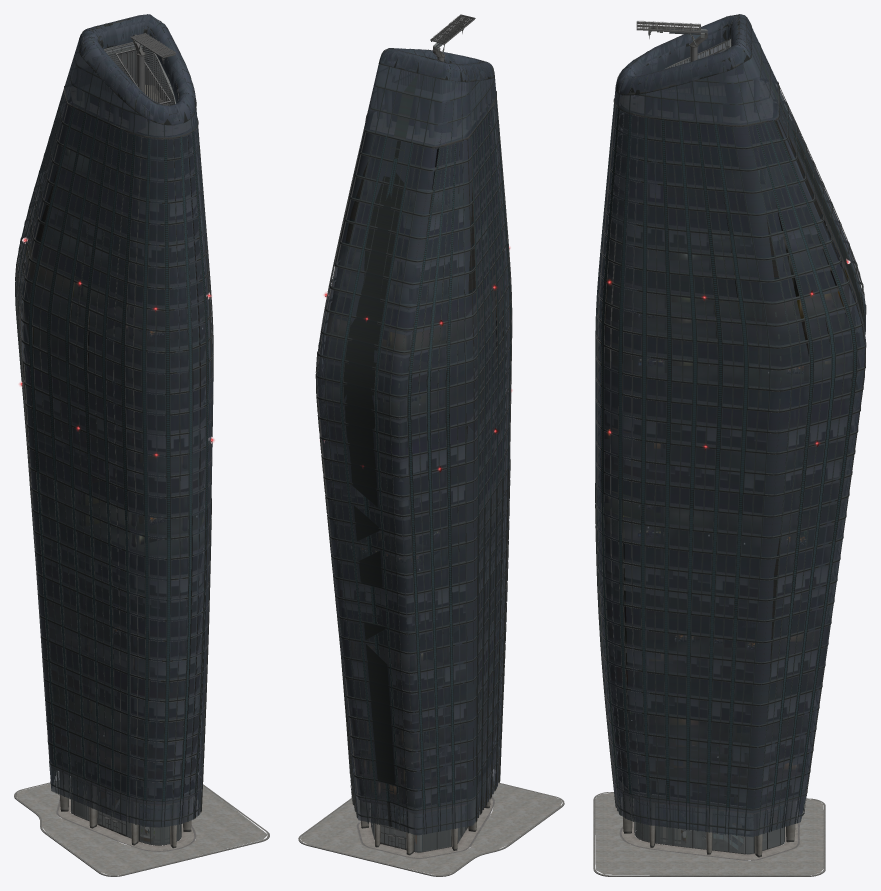
File: tower.glb
3 renders of one model, left to right at view 1: azimuth 30°, elevation 25°; view 2: azimuth 150°, elevation 25°; view 3: azimuth 270°, elevation 25°, orthographic. The views are drawn at different scales.
Parts seen in each view (by area): view 1: Glass_Generic_Glass_Generic_0, Building_Facade_Building_Facade_0, Interior_Top_Interior_Top_0, Glass_Generic_More_Opaque_Glass_Generic_More_Opaque_0, Sidewalk_02_Sidewalk_02_0, Interior_Blinds_Interior_Blinds_0, Top_Piece_Top_Piece_0, Sidewalk_01_Sidewalk_01_0, Concrete_Pillar_Concrete_Pillar_0, Glass_Lobby_Glass_Lobby_0, Building_Maintenance_Unit_Building_Maintenance_Unit_0, Lobby_Curtains_Lobby_Curtains_0; view 2: Building_Facade_Building_Facade_0, Glass_Generic_Glass_Generic_0, Interior_Top_Interior_Top_0, Glass_Generic_More_Opaque_Glass_Generic_More_Opaque_0, Sidewalk_02_Sidewalk_02_0, Interior_Blinds_Interior_Blinds_0, Top_Piece_Top_Piece_0, Sidewalk_01_Sidewalk_01_0, Concrete_Pillar_Concrete_Pillar_0, Glass_Lobby_Glass_Lobby_0, Building_Maintenance_Unit_Building_Maintenance_Unit_0, Lobby_Curtains_Lobby_Curtains_0; view 3: Glass_Generic_Glass_Generic_0, Building_Facade_Building_Facade_0, Interior_Top_Interior_Top_0, Glass_Generic_More_Opaque_Glass_Generic_More_Opaque_0, Interior_Blinds_Interior_Blinds_0, Sidewalk_02_Sidewalk_02_0, Top_Piece_Top_Piece_0, Sidewalk_01_Sidewalk_01_0, Glass_Lobby_Glass_Lobby_0, Concrete_Pillar_Concrete_Pillar_0, Building_Maintenance_Unit_Building_Maintenance_Unit_0, Lobby_Curtains_Lobby_Curtains_0 (+2 smaller).
Part boxes in pixels (box(x1,y1,x2,y2)): Glass_Generic_Glass_Generic_0: box(16, 91, 213, 827); Building_Facade_Building_Facade_0: box(15, 14, 213, 845); Interior_Top_Interior_Top_0: box(22, 110, 207, 798); Glass_Generic_More_Opaque_Glass_Generic_More_Opaque_0: box(64, 14, 197, 137); Sidewalk_02_Sidewalk_02_0: box(16, 779, 267, 875); Interior_Blinds_Interior_Blinds_0: box(26, 178, 205, 795); Top_Piece_Top_Piece_0: box(70, 42, 195, 135); Sidewalk_01_Sidewalk_01_0: box(14, 780, 269, 876); Concrete_Pillar_Concrete_Pillar_0: box(59, 772, 191, 848); Glass_Lobby_Glass_Lobby_0: box(71, 799, 181, 844); Building_Maintenance_Unit_Building_Maintenance_Unit_0: box(130, 33, 176, 93); Lobby_Curtains_Lobby_Curtains_0: box(73, 789, 179, 844); Building_Facade_Building_Facade_0: box(315, 48, 512, 852); Glass_Generic_Glass_Generic_0: box(316, 100, 510, 835); Interior_Top_Interior_Top_0: box(323, 108, 506, 807); Glass_Generic_More_Opaque_Glass_Generic_More_Opaque_0: box(364, 48, 496, 147); Sidewalk_02_Sidewalk_02_0: box(300, 783, 562, 875); Interior_Blinds_Interior_Blinds_0: box(326, 208, 502, 803); Top_Piece_Top_Piece_0: box(370, 71, 494, 144); Sidewalk_01_Sidewalk_01_0: box(298, 782, 564, 876); Concrete_Pillar_Concrete_Pillar_0: box(360, 775, 490, 855); Glass_Lobby_Glass_Lobby_0: box(371, 794, 478, 852); Building_Maintenance_Unit_Building_Maintenance_Unit_0: box(430, 14, 475, 62); Lobby_Curtains_Lobby_Curtains_0: box(417, 826, 459, 851); Glass_Generic_Glass_Generic_0: box(595, 91, 865, 837); Building_Facade_Building_Facade_0: box(595, 14, 866, 854); Interior_Top_Interior_Top_0: box(600, 104, 860, 806); Glass_Generic_More_Opaque_Glass_Generic_More_Opaque_0: box(614, 14, 778, 125); Interior_Blinds_Interior_Blinds_0: box(605, 171, 854, 802); Sidewalk_02_Sidewalk_02_0: box(595, 792, 823, 875); Top_Piece_Top_Piece_0: box(620, 38, 772, 122); Sidewalk_01_Sidewalk_01_0: box(593, 792, 825, 876); Glass_Lobby_Glass_Lobby_0: box(634, 800, 784, 853); Concrete_Pillar_Concrete_Pillar_0: box(623, 795, 795, 857); Building_Maintenance_Unit_Building_Maintenance_Unit_0: box(636, 21, 707, 93); Lobby_Curtains_Lobby_Curtains_0: box(637, 810, 739, 852).
Bounding box in the file's own units: 37.24 × 167 × 50.88.
20 materials, 18 textured.
